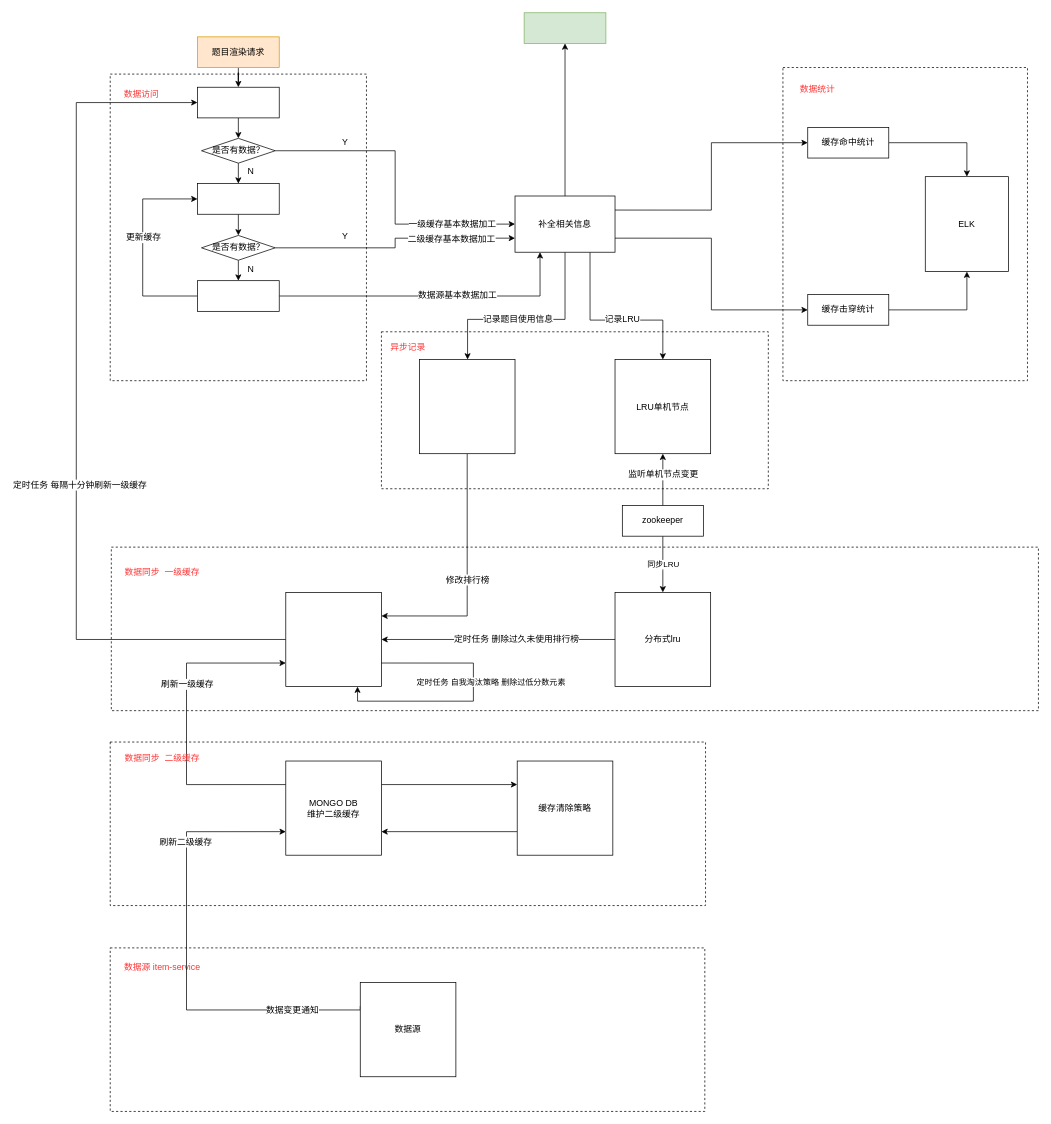
This 1051x1124 diagram has some shape labels left out. Here are the shapes that lost their labels. From the top down, the centre of each, then its label:
the point at 564,27: 返回
the point at 238,102: item-manager 一级缓存
the point at 238,198: item-manager 二级缓存
the point at 238,295: item-service
the point at 467,406: redis队列
the point at 333,639: redis排行榜 维护一级缓存
